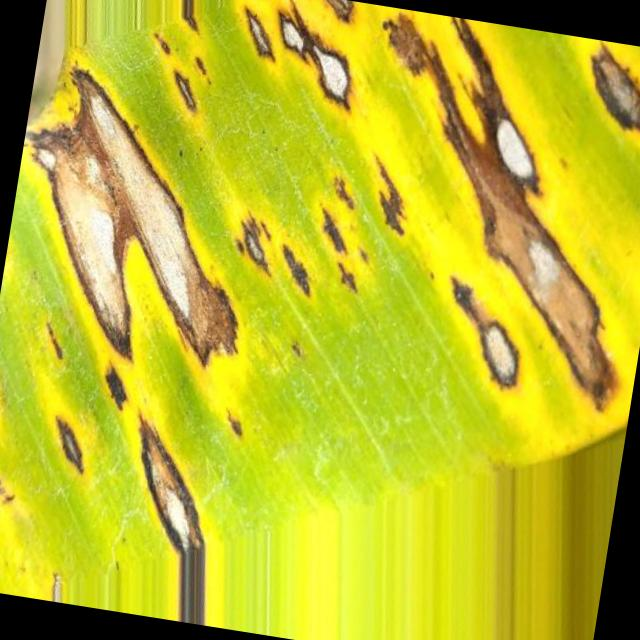Banana_Yellow_Sigatoka: (0, 55, 313, 627), (244, 1, 640, 354)
